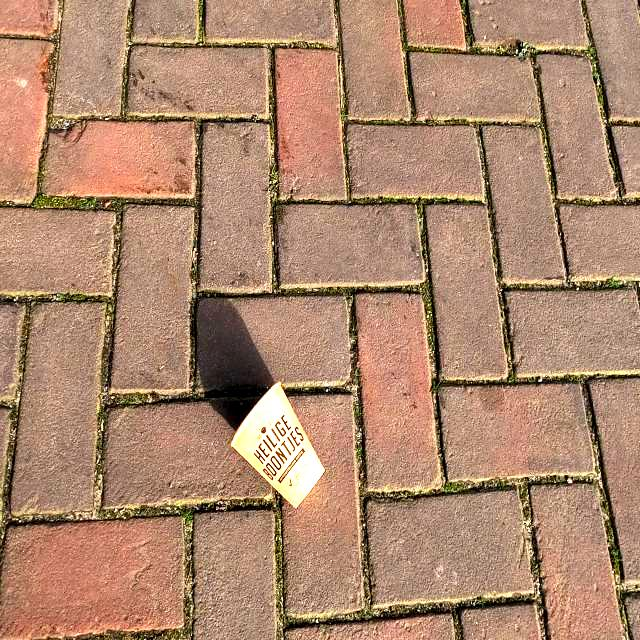Coffee Cup: (228, 376, 326, 512)
